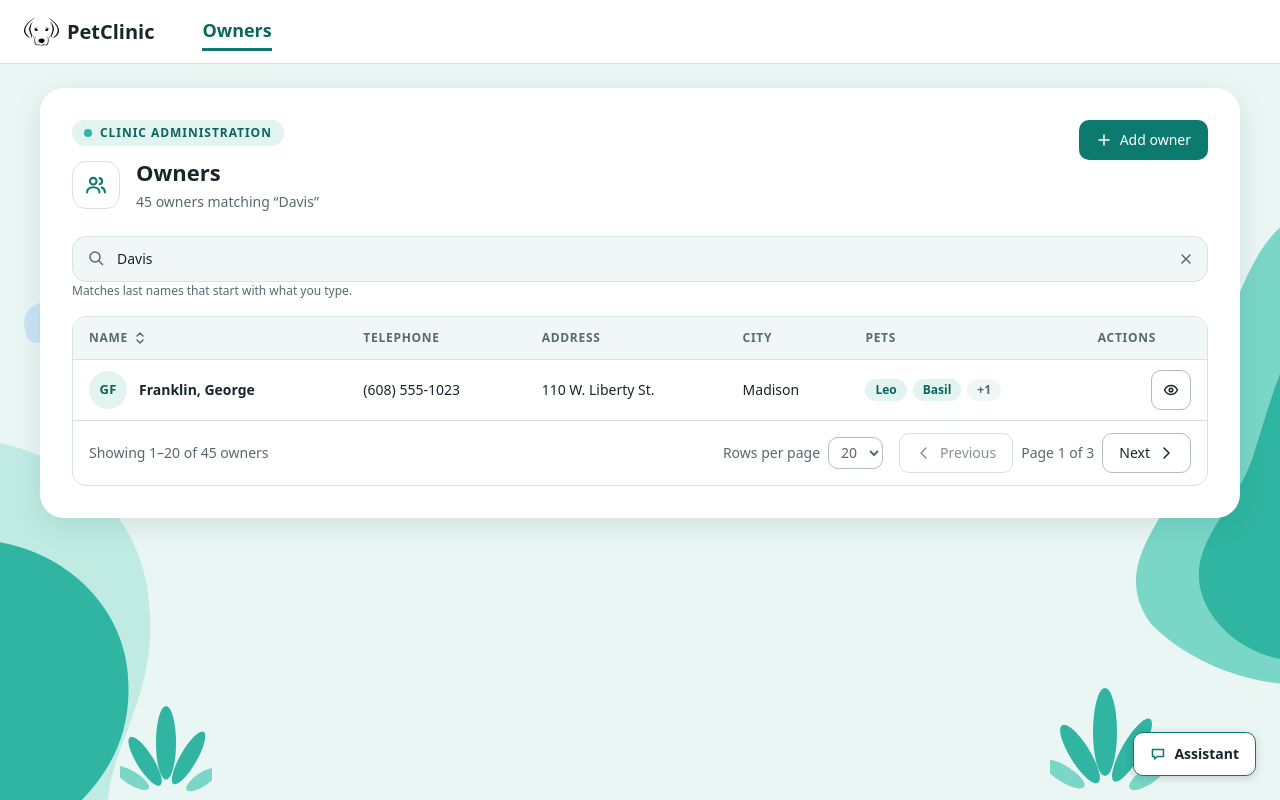
Scenario: OwnersPage › clears the search with the clear button in the field
This screenshot has width=1280, height=800.
Expected: the link "Franklin, George" is shown, [139,380,255,399]
Click the button named "Clear search": point(1186, 259) [1168,241,1204,277]
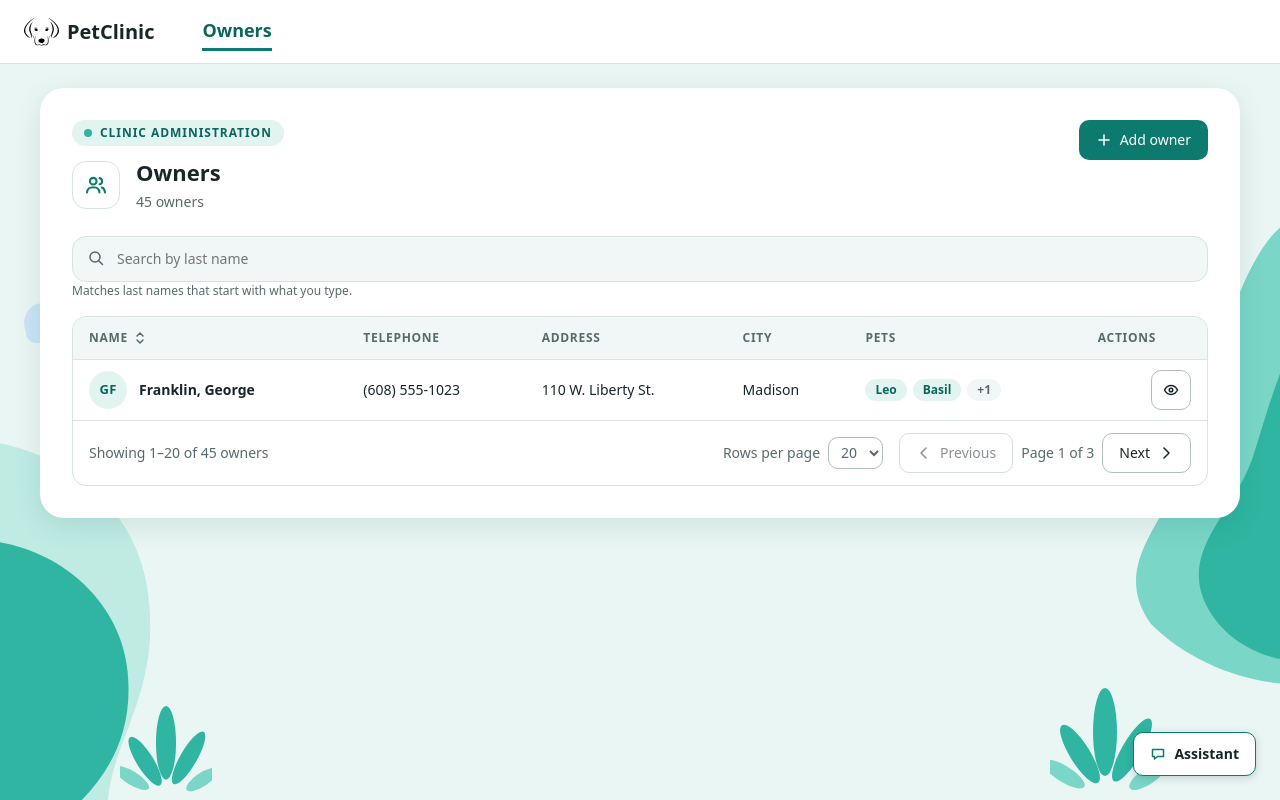
Expected: the search field is empty, [72,236,1208,282]
